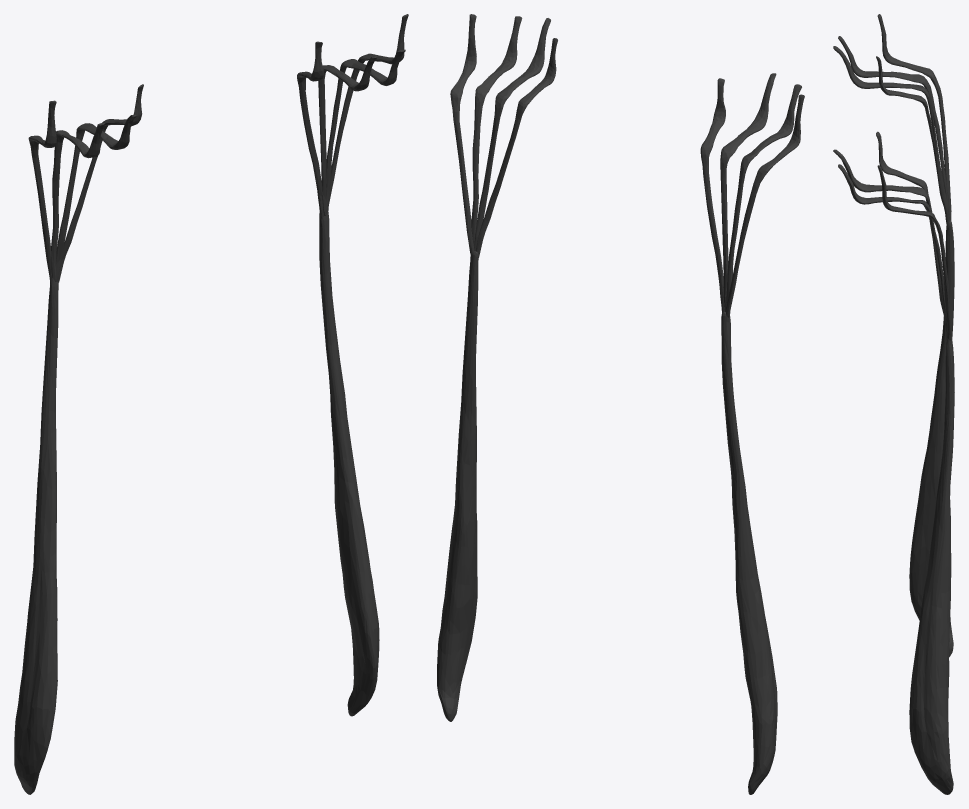
Rendered from m_extensor_digitorum_communis.glb.
3 views of the same model, side by side, from view 1: azimuth 30°, elevation 25°; view 2: azimuth 150°, elevation 25°; view 3: azimuth 270°, elevation 25° (orthographic). The views are drawn at different scales.
Visible parts, largest first — view 1: m_extensor_digitorum_communis; view 2: m_extensor_digitorum_communis; view 3: m_extensor_digitorum_communis.
Boxes of the visible parts, bbox=[...] form: m_extensor_digitorum_communis: bbox=[14, 14, 408, 794]; m_extensor_digitorum_communis: bbox=[437, 14, 804, 794]; m_extensor_digitorum_communis: bbox=[833, 14, 954, 794].
Bounding box in the file's own units: 0.00457 × 0.00882 × 0.00153.
1 material, 1 textured.
